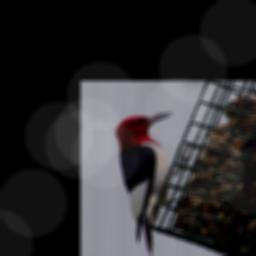Woodpecker: (114, 110, 189, 256)
